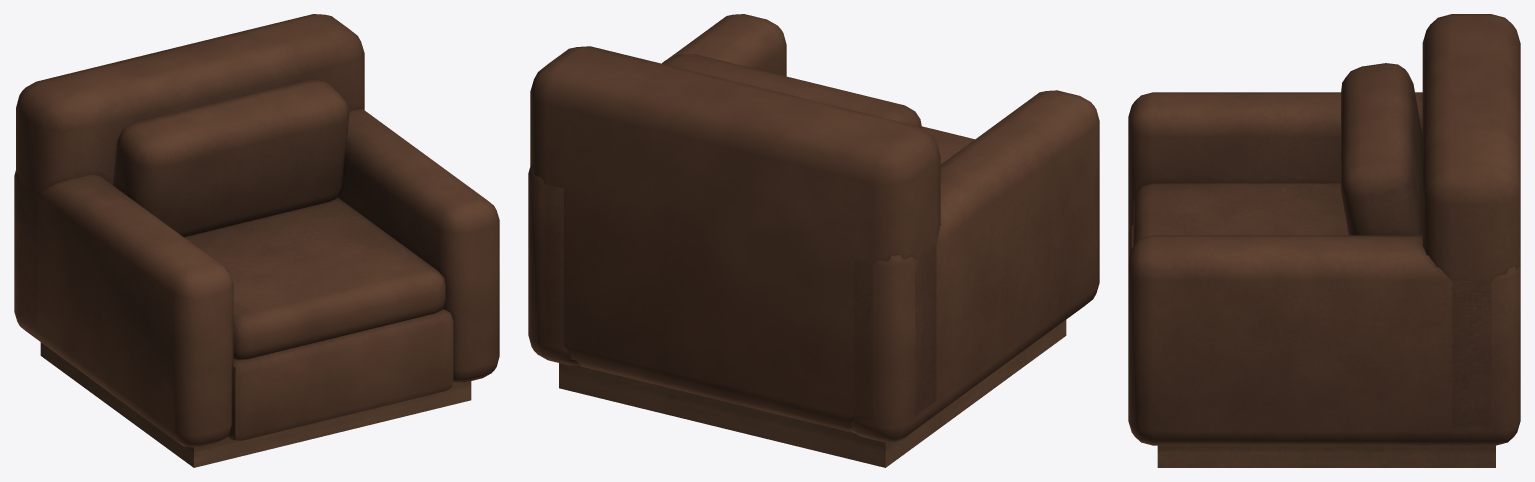
Rendered from H_Armchair.fbx.
The picture shows the model from 3 angles, left to right: view 1: azimuth 30°, elevation 25°; view 2: azimuth 150°, elevation 25°; view 3: azimuth 270°, elevation 25°; orthographic projection. The views are drawn at different scales.
Visible parts, largest first — view 1: H_Armchair; view 2: H_Armchair; view 3: H_Armchair.
Boxes of the visible parts, x1,y1,x2,y2 form: H_Armchair: (14,14,499,467); H_Armchair: (528,14,1099,467); H_Armchair: (1128,14,1520,467).
Bounding box in the file's own units: 420 × 340 × 400.
1 material, 1 textured.
